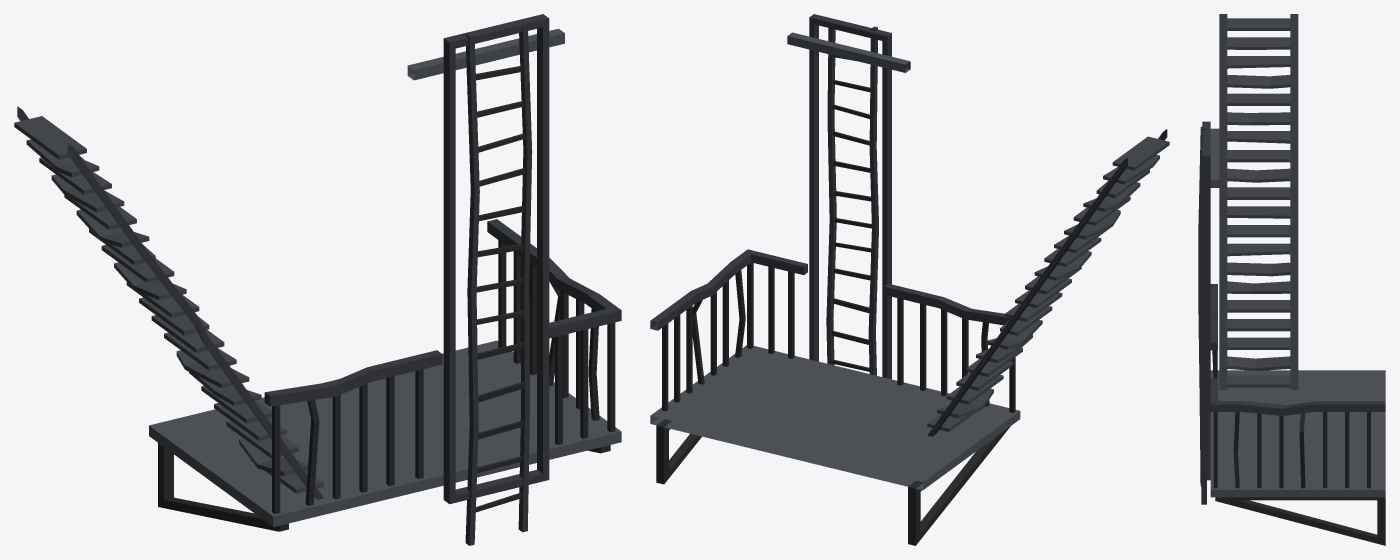
Rendered from SM_Bld_FireEscape_03_949.obj.
The picture shows the model from 3 angles, left to right: view 1: azimuth 30°, elevation 25°; view 2: azimuth 150°, elevation 25°; view 3: azimuth 270°, elevation 25°; orthographic projection. The views are drawn at different scales.
Visible parts, largest first — view 1: SM_Bld_FireEscape_03_0; view 2: SM_Bld_FireEscape_03_0; view 3: SM_Bld_FireEscape_03_0.
Boxes of the visible parts, x1,y1,x2,y2 form: SM_Bld_FireEscape_03_0: (14, 14, 621, 545); SM_Bld_FireEscape_03_0: (650, 14, 1169, 545); SM_Bld_FireEscape_03_0: (1198, 14, 1385, 545).
Size of the model in its own units: 4.25 by 3.8 by 1.76.
Materials: 1 (1 with a texture image).
